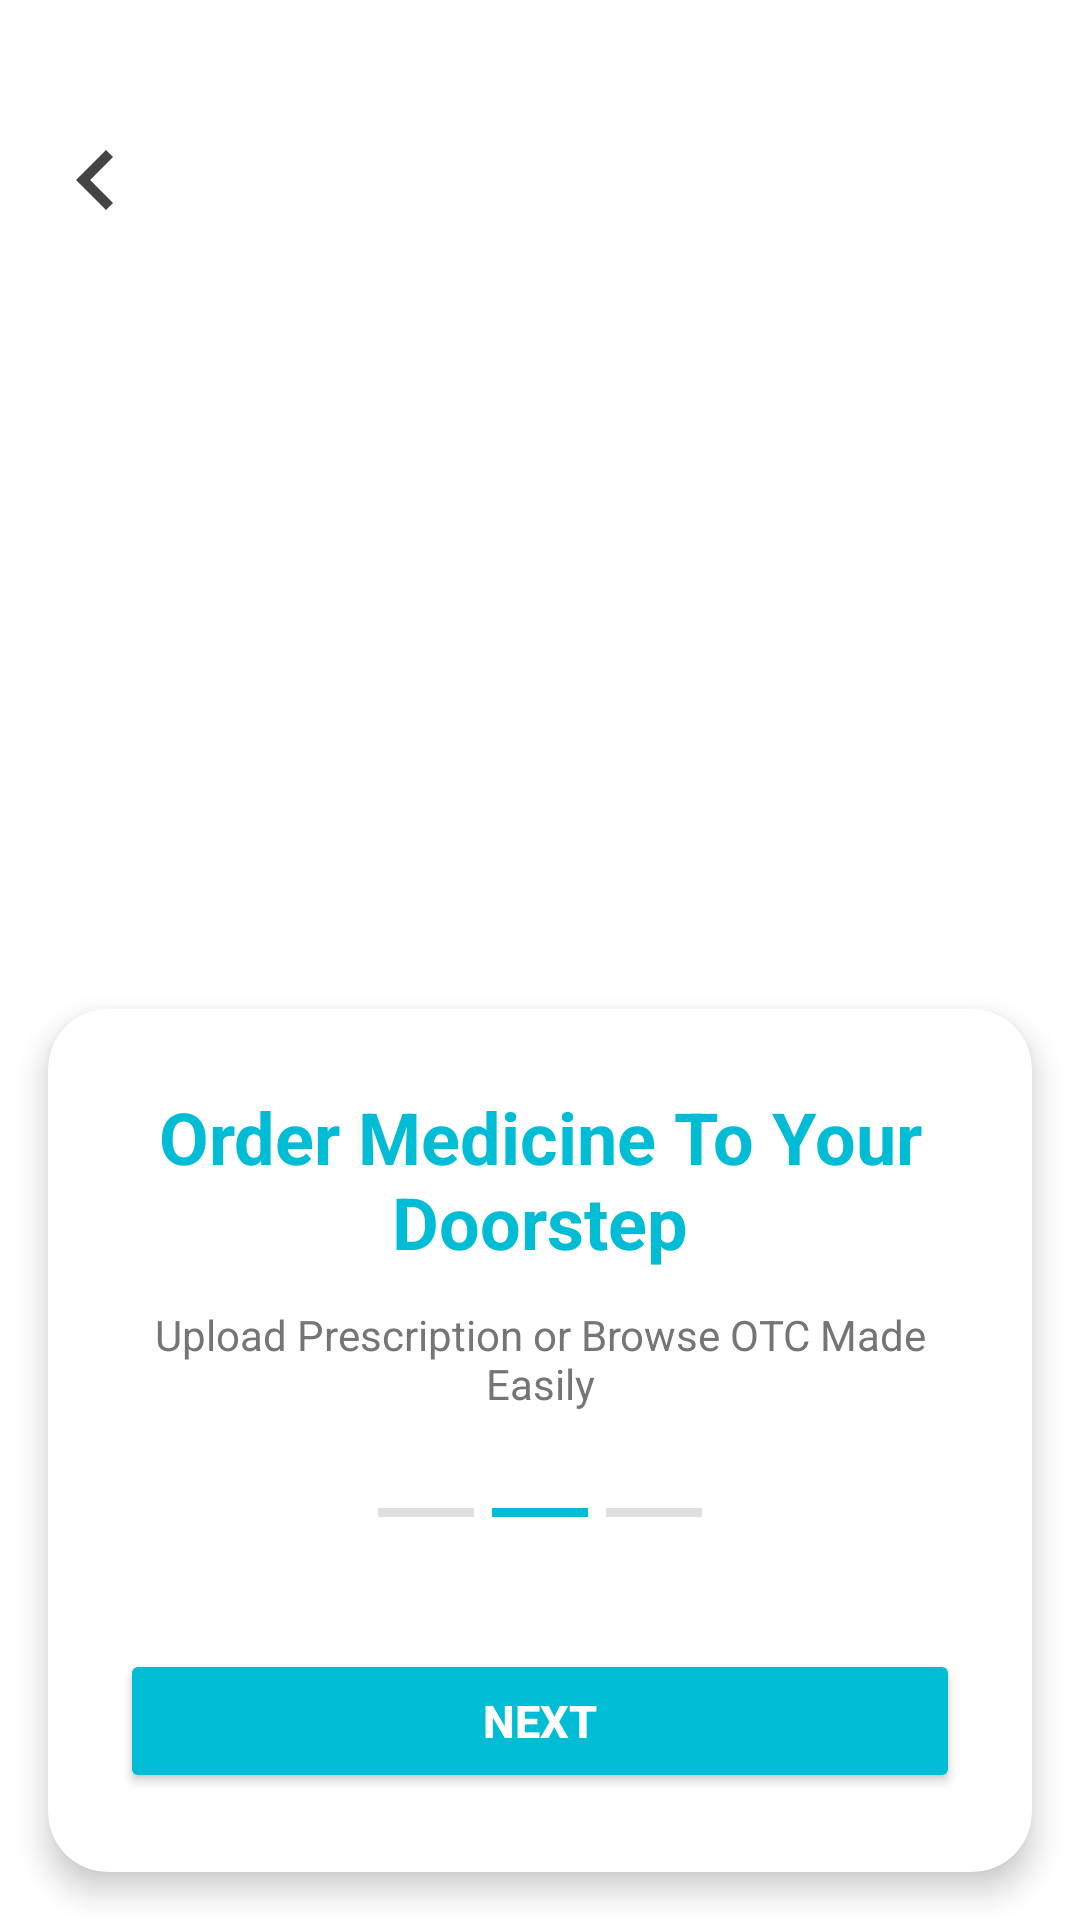

Where icons sit on this 1080 x 1920 app screen, as (x1, y1, x2, y2):
Back Button: (76, 150, 113, 210)
